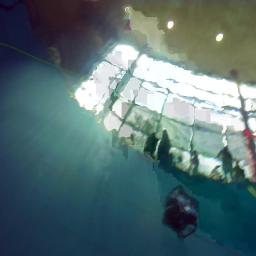Full: (161, 184, 199, 238)
